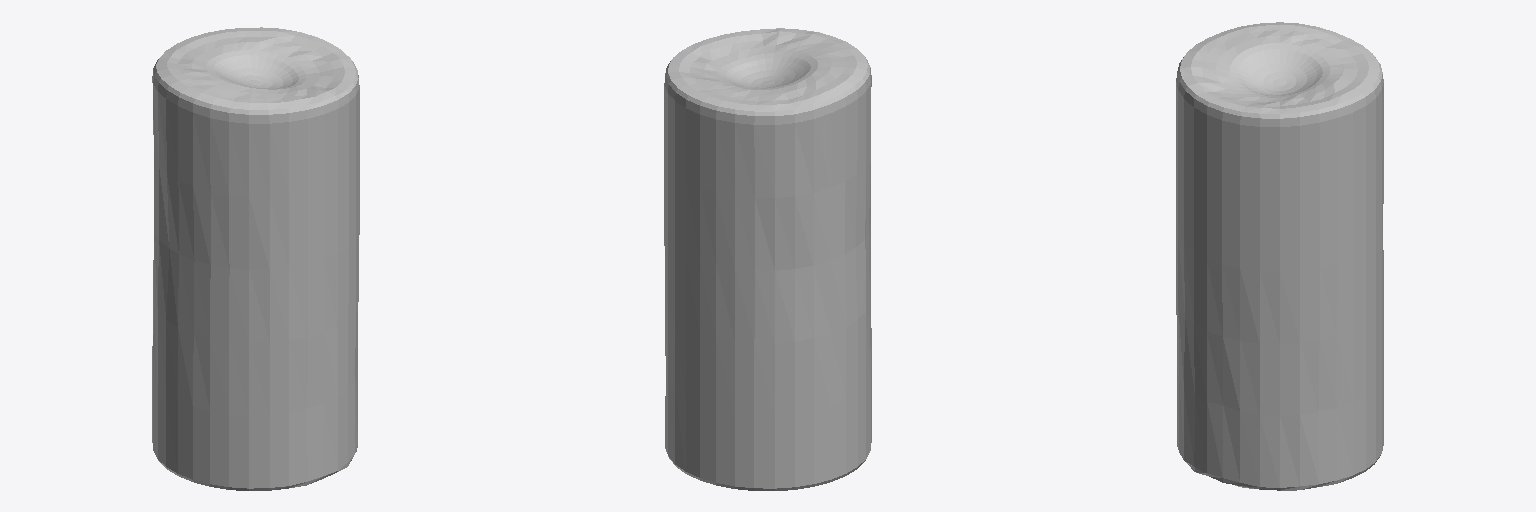
The model's file is candle_base.obj.
3 views of the same model, side by side, from view 1: azimuth 30°, elevation 25°; view 2: azimuth 150°, elevation 25°; view 3: azimuth 270°, elevation 25° (orthographic).
Parts seen in each view (by area): view 1: Cylinder.003; view 2: Cylinder.003; view 3: Cylinder.003.
Boxes of the visible parts, box(x1,y1,x2,y2) form: Cylinder.003: box(152, 27, 359, 490); Cylinder.003: box(664, 28, 871, 490); Cylinder.003: box(1176, 22, 1383, 490).
Size of the model in its own units: 0.0646 by 0.133 by 0.0646.